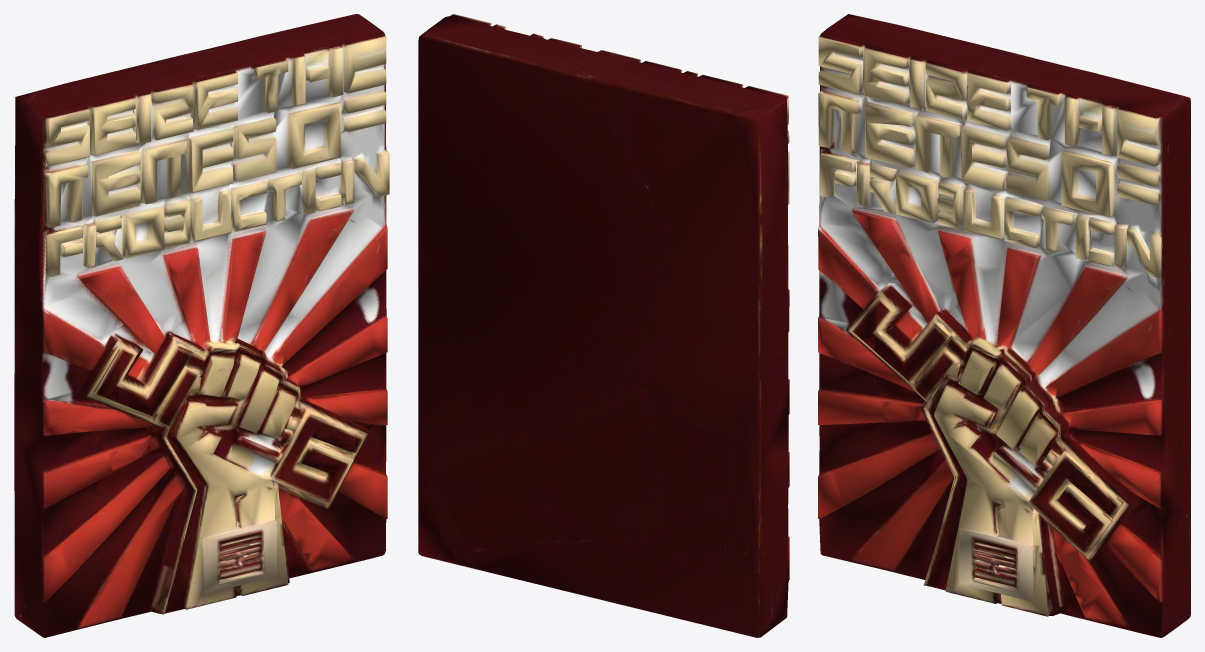
3 views of the same model, side by side, from view 1: azimuth 30°, elevation 25°; view 2: azimuth 150°, elevation 25°; view 3: azimuth 330°, elevation 25° (orthographic).
Parts seen in each view (by area): view 1: node_0; view 2: node_0; view 3: node_0.
Boxes of the visible parts, x1,y1,x2,y2 form: node_0: (14,14,389,637); node_0: (418,14,789,637); node_0: (818,14,1190,637).
Bounding box in the file's own units: 0.6808 × 0.9877 × 0.1379.
Materials: 1 (1 with a texture image).
